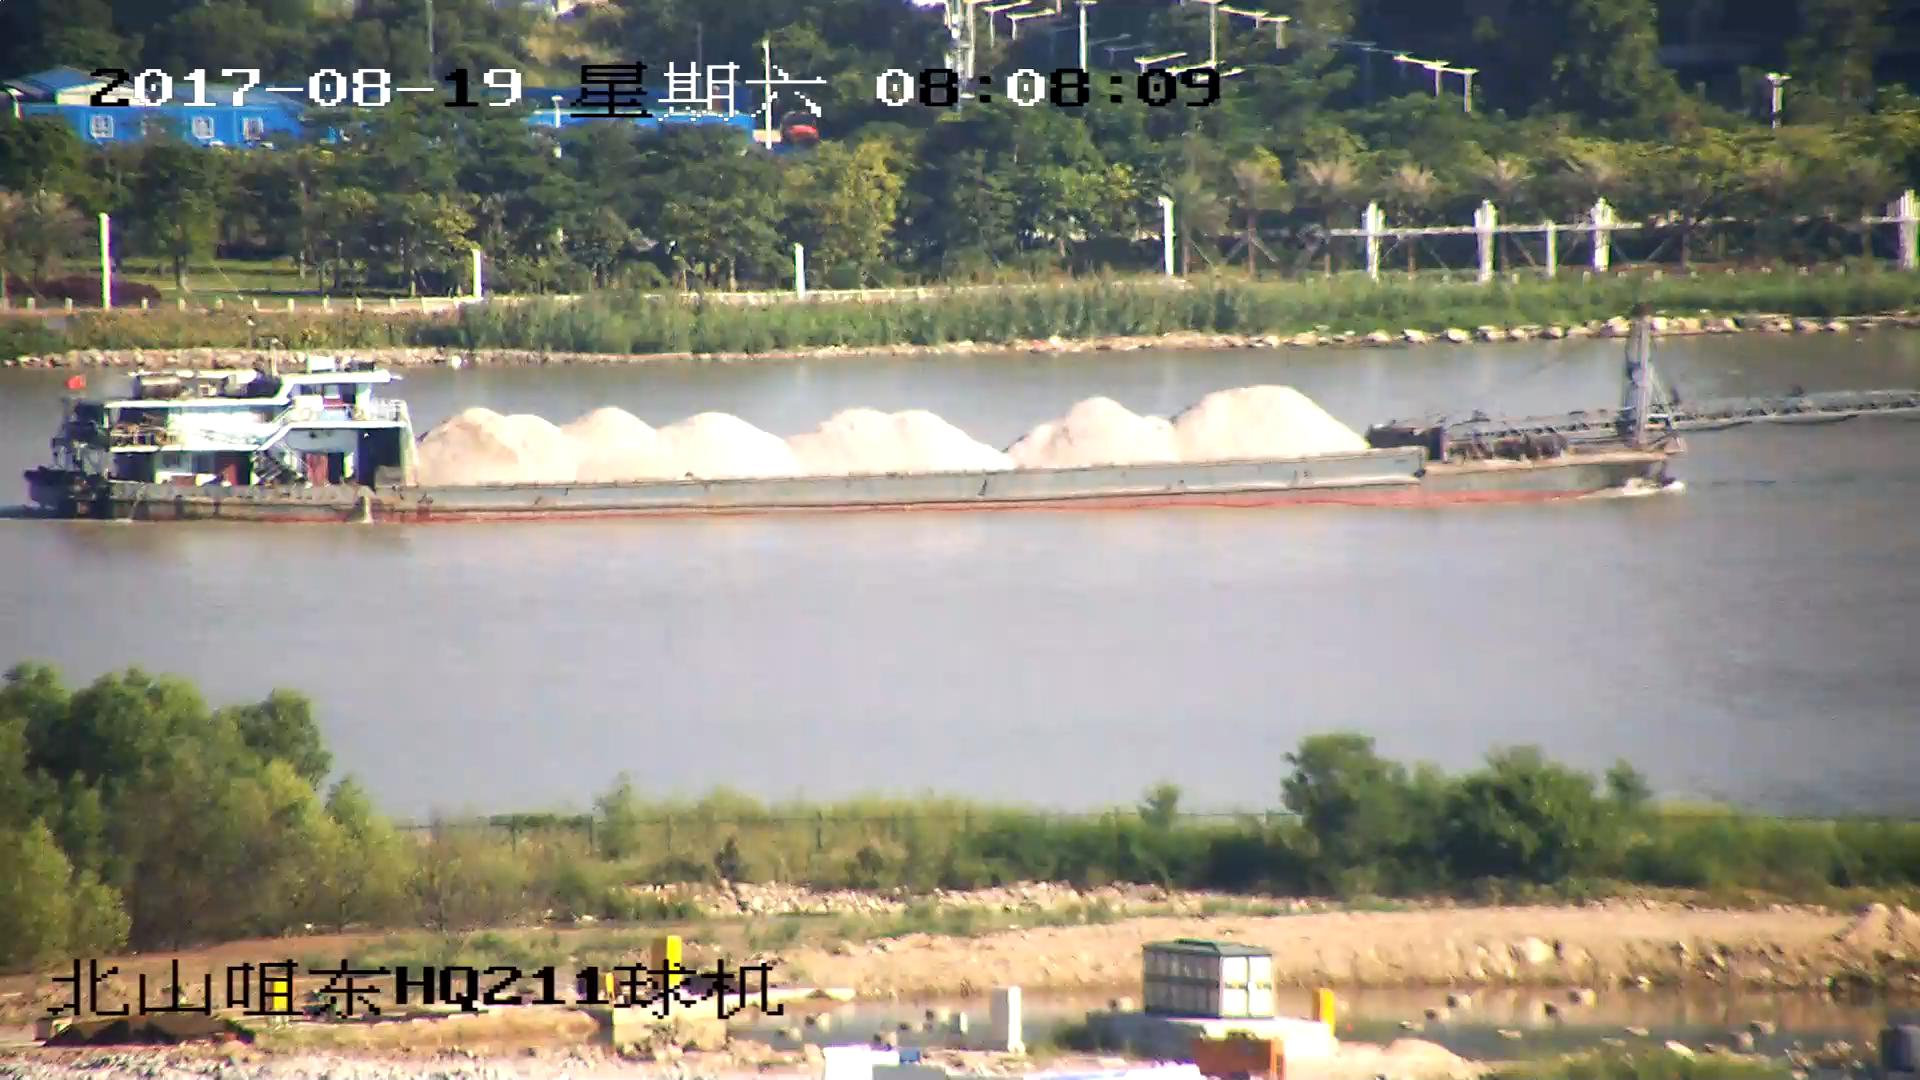ore carrier: (26, 307, 1920, 522)
